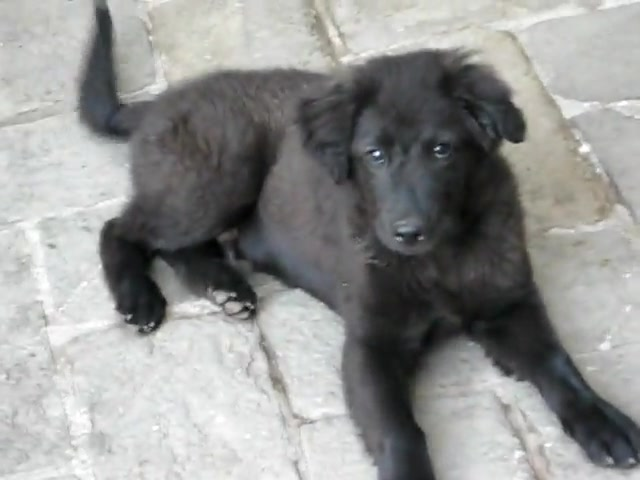dog: (79, 3, 640, 480)
